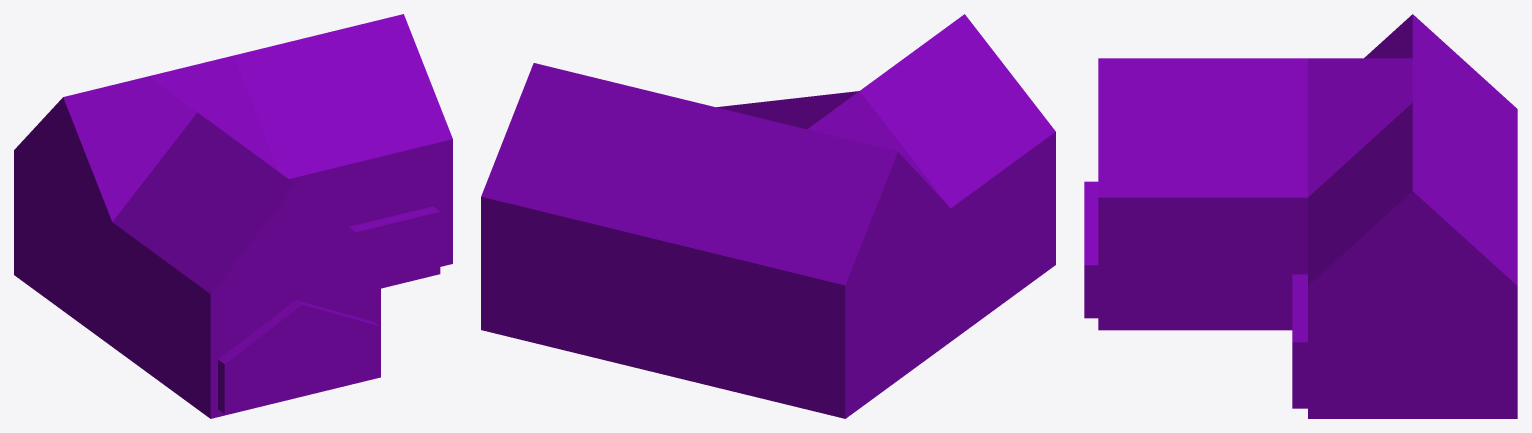
File: House_3.fbx
3 renders of one model, left to right at view 1: azimuth 30°, elevation 25°; view 2: azimuth 150°, elevation 25°; view 3: azimuth 270°, elevation 25°, orthographic. The views are drawn at different scales.
Parts seen in each view (by area): view 1: Cube; view 2: Cube; view 3: Cube.
Part boxes in pixels (x1,y1,x2,y2): Cube: (14, 14, 452, 418); Cube: (481, 14, 1055, 418); Cube: (1084, 14, 1517, 418).
Size of the model in its own units: 192 by 115 by 198.
